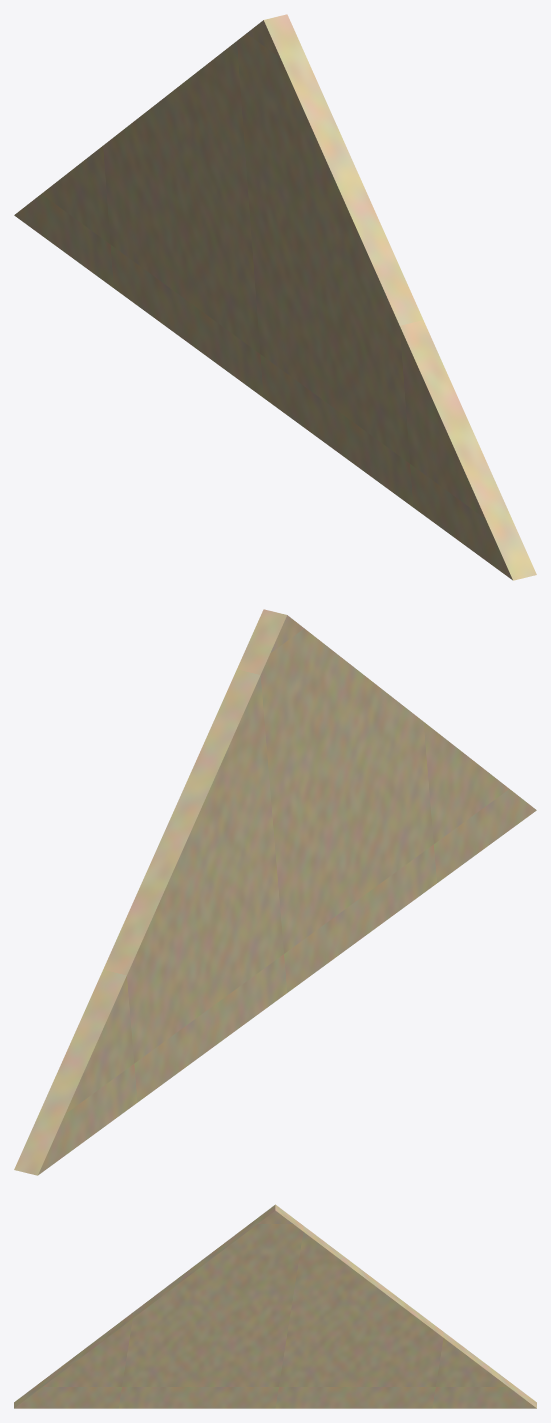
File: SM_HH_V2_Gable_Rear.fbx
The picture shows the model from 3 angles, top to bottom: view 1: azimuth 30°, elevation 25°; view 2: azimuth 150°, elevation 25°; view 3: azimuth 270°, elevation 25°; orthographic projection. The views are drawn at different scales.
Parts seen in each view (by area): view 1: HH_V2_Gable_Rear; view 2: HH_V2_Gable_Rear; view 3: HH_V2_Gable_Rear.
Part boxes in pixels (bbox=[...]): HH_V2_Gable_Rear: bbox=[14, 14, 536, 580]; HH_V2_Gable_Rear: bbox=[14, 609, 536, 1175]; HH_V2_Gable_Rear: bbox=[14, 1204, 536, 1408].
Bounding box in the file's own units: 8.74 × 0.24 × 3.65.
